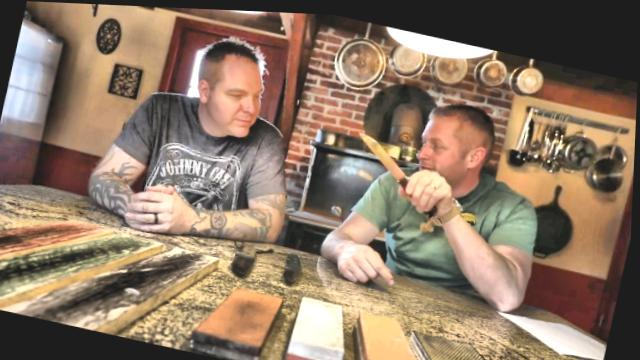knife: (338, 119, 457, 210)
